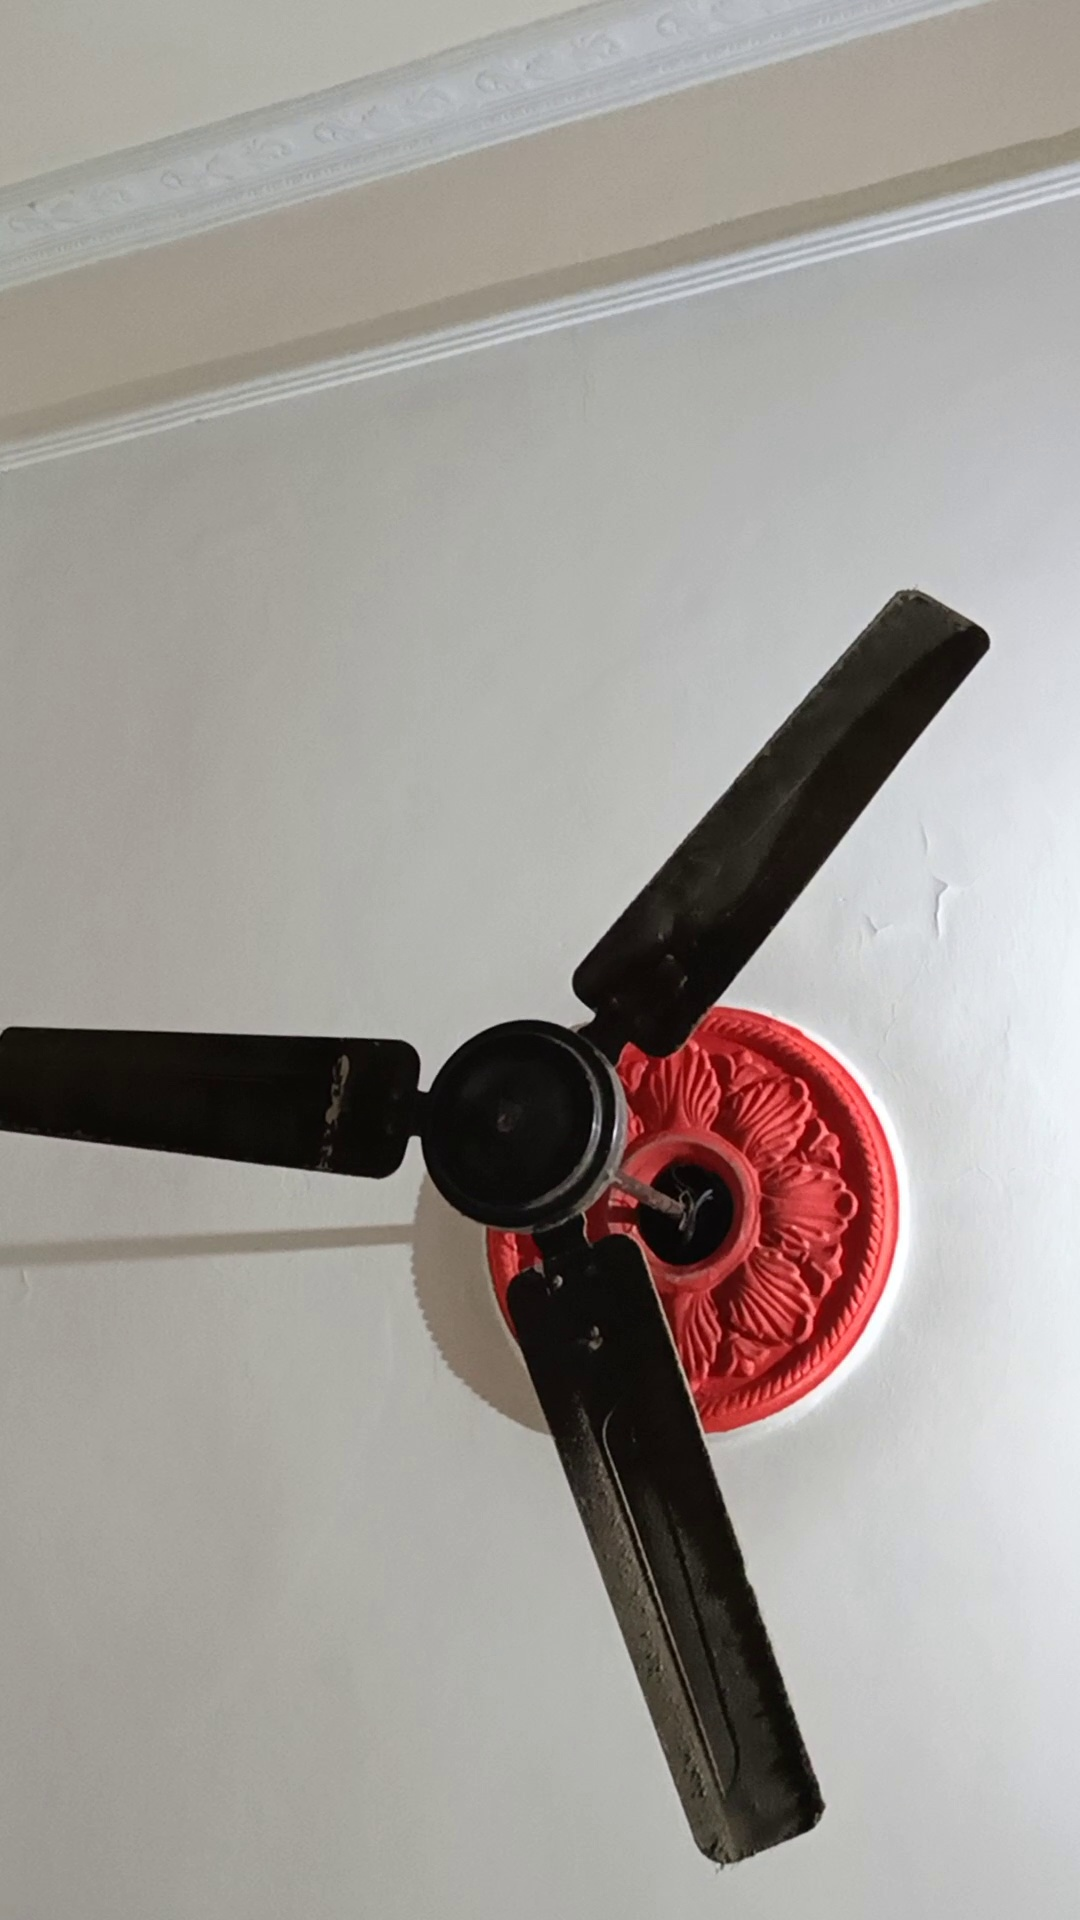fan: (1, 549, 1034, 1920)
